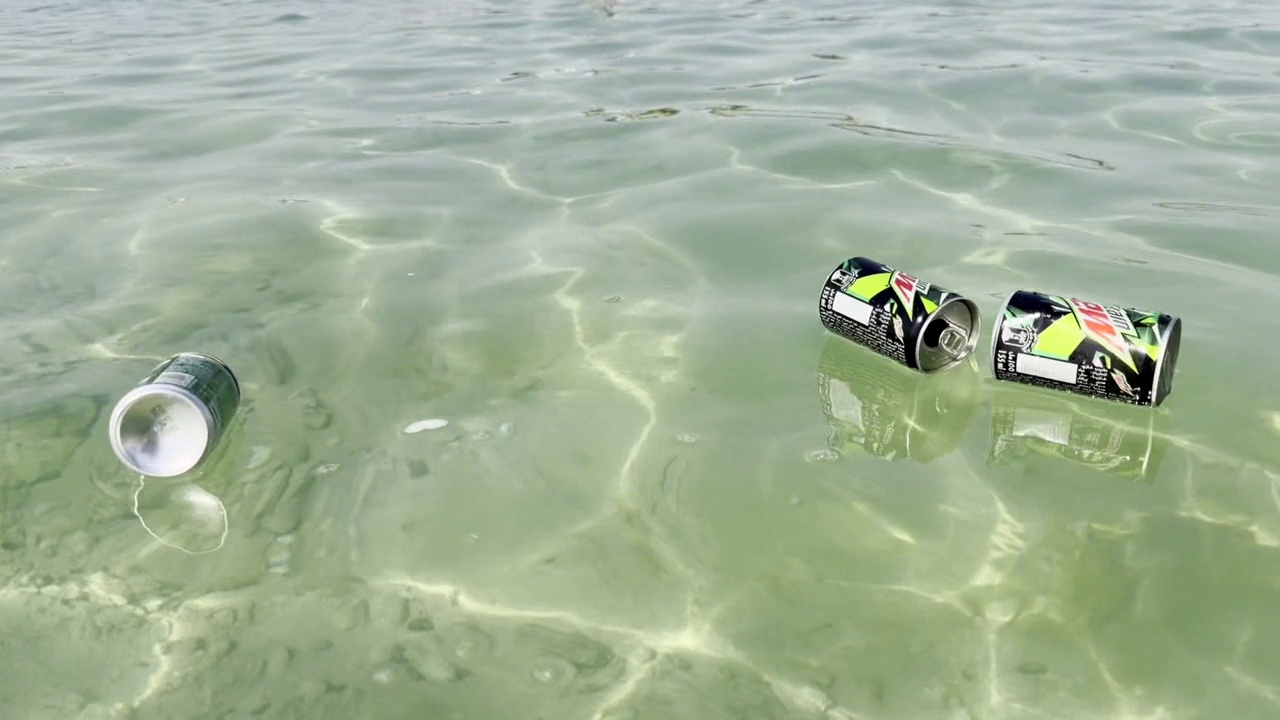debris: (982, 280, 1193, 417), (808, 245, 985, 382), (102, 338, 245, 485)
